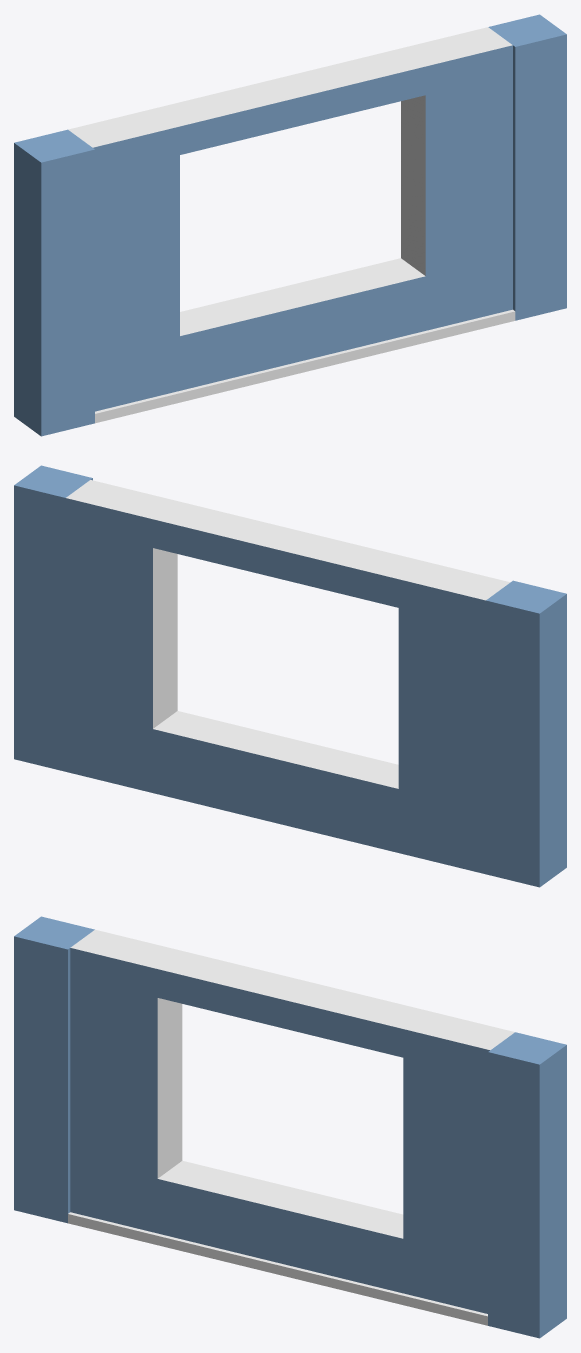
The model's file is Wall 5.fbx.
The picture shows the model from 3 angles, top to bottom: view 1: azimuth 30°, elevation 25°; view 2: azimuth 150°, elevation 25°; view 3: azimuth 330°, elevation 25°; orthographic projection.
Visible parts, largest first — view 1: wall 5; view 2: wall 5; view 3: wall 5.
Part boxes in pixels (x1,y1,x2,y2): wall 5: [14, 14, 566, 436]; wall 5: [14, 465, 566, 887]; wall 5: [14, 916, 566, 1338].
Size of the model in its own units: 511 by 254 by 45.77.
2 materials, 1 textured.
